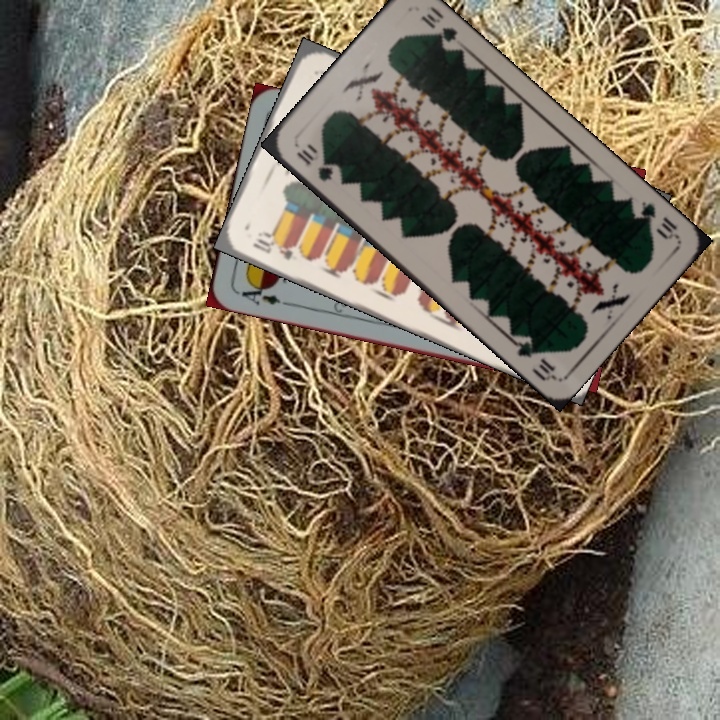E10: (248, 229, 296, 263)
EA: (237, 279, 292, 308)
G10: (627, 197, 681, 242), (292, 145, 336, 184)
